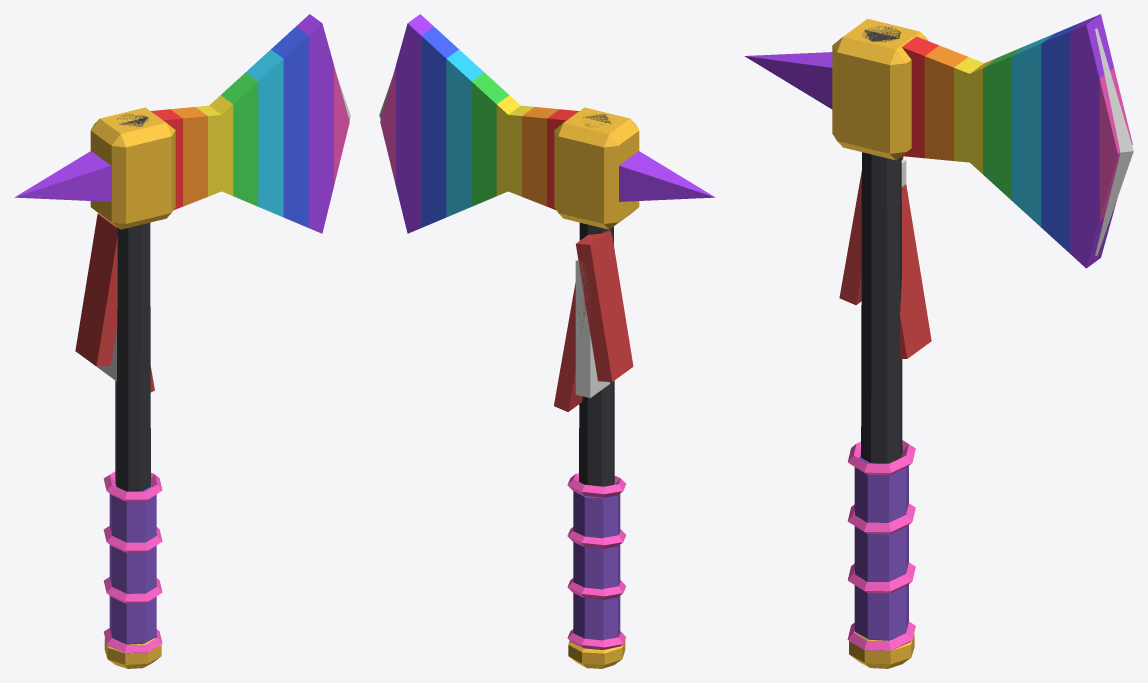
The model's file is RainbowTomahawk.fbx.
3 views of the same model, side by side, from view 1: azimuth 30°, elevation 25°; view 2: azimuth 150°, elevation 25°; view 3: azimuth 330°, elevation 25° (orthographic). The views are drawn at different scales.
Parts seen in each view (by area): view 1: RainbowTomahawk; view 2: RainbowTomahawk; view 3: RainbowTomahawk.
Part boxes in pixels (<box>): RainbowTomahawk: <box>14,14,350,668</box>; RainbowTomahawk: <box>379,14,715,668</box>; RainbowTomahawk: <box>744,14,1133,668</box>.
Size of the model in its own units: 1.84 by 3.12 by 0.35.
Materials: 1 (1 with a texture image).
